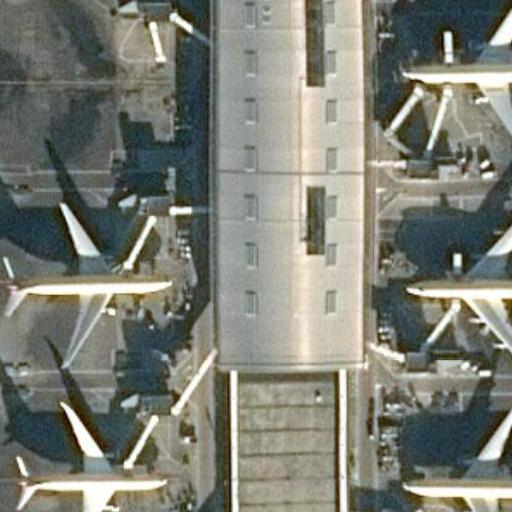Aircraft: (1, 197, 172, 371), (406, 199, 512, 374), (11, 401, 169, 512), (402, 0, 512, 159), (399, 404, 512, 512)
